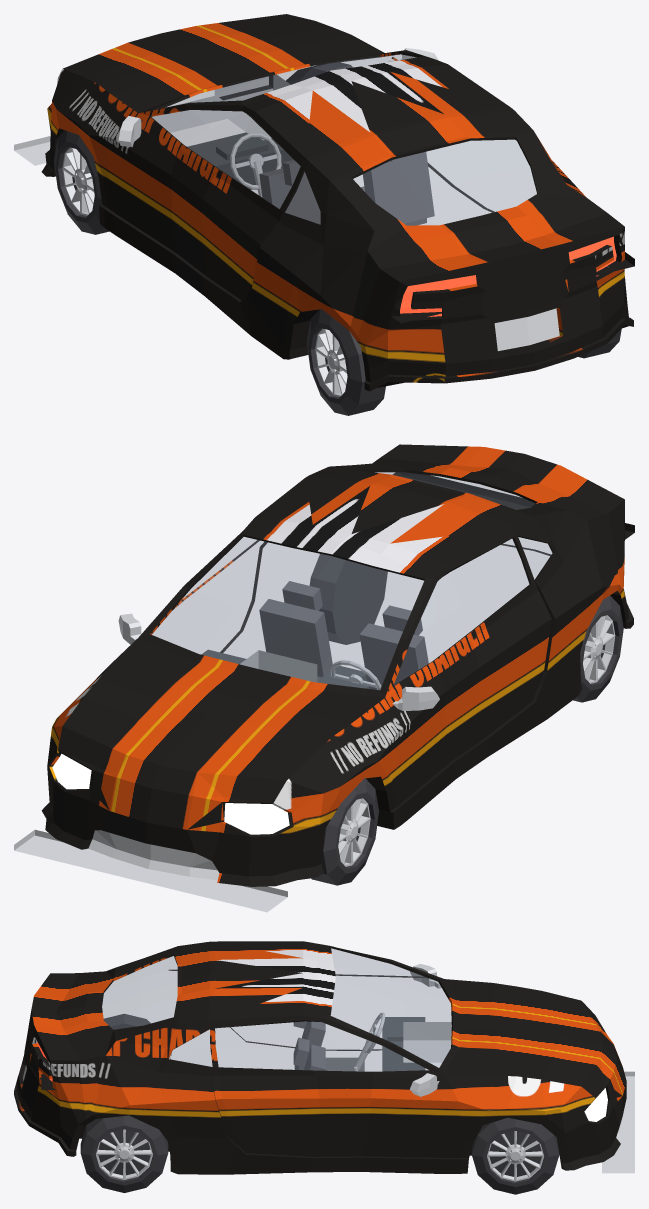
The model's file is muscle_coupe.glb.
3 views of the same model, one above another, from view 1: azimuth 30°, elevation 25°; view 2: azimuth 150°, elevation 25°; view 3: azimuth 270°, elevation 25° (orthographic). The views are drawn at different scales.
Parts seen in each view (by area): view 1: MuscleCoupe_Mesh, SportsCar2_BackWheels_Cylinder.002, SportsCar2_FrontLeftWheel_Cylinder.017; view 2: MuscleCoupe_Mesh, SportsCar2_BackWheels_Cylinder.002, SportsCar2_FrontLeftWheel_Cylinder.017; view 3: MuscleCoupe_Mesh, SportsCar2_BackWheels_Cylinder.002, SportsCar2_FrontRightWheel_Cylinder.018.
Boxes of the visible parts, box(x1,y1,x2,y2) form: MuscleCoupe_Mesh: box(14, 14, 634, 391); SportsCar2_BackWheels_Cylinder.002: box(306, 309, 621, 415); SportsCar2_FrontLeftWheel_Cylinder.017: box(54, 130, 109, 234); MuscleCoupe_Mesh: box(14, 444, 634, 912); SportsCar2_BackWheels_Cylinder.002: box(309, 554, 623, 702); SportsCar2_FrontLeftWheel_Cylinder.017: box(311, 778, 378, 885); MuscleCoupe_Mesh: box(14, 941, 634, 1174); SportsCar2_BackWheels_Cylinder.002: box(80, 1013, 168, 1192); SportsCar2_FrontRightWheel_Cylinder.018: box(472, 1117, 559, 1194).
Size of the model in its own units: 2.31 by 1.49 by 4.92.
Materials: 9 (1 with a texture image).
